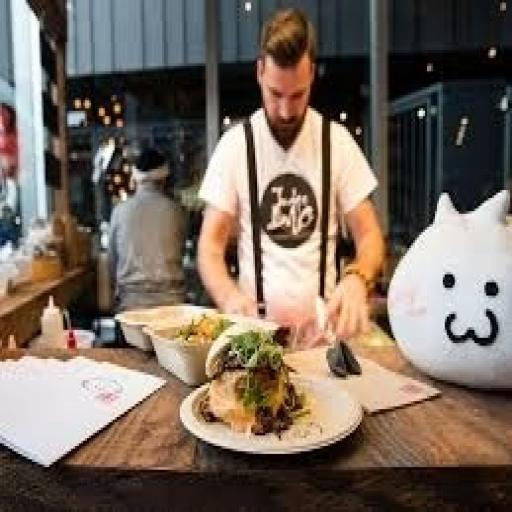eating: (194, 5, 386, 343)
